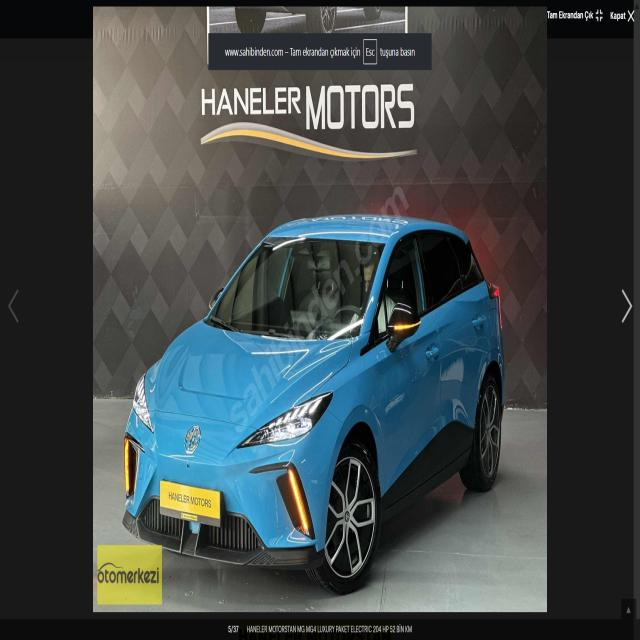mg: (178, 415, 206, 460)
